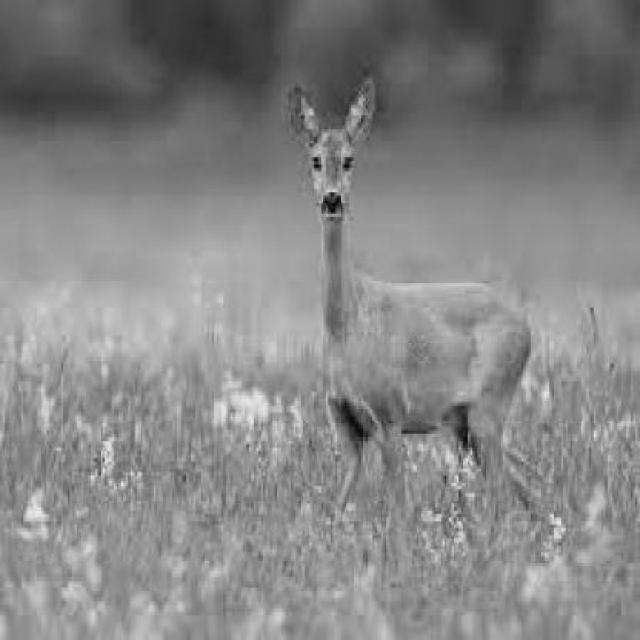Deer: (274, 60, 546, 528)
